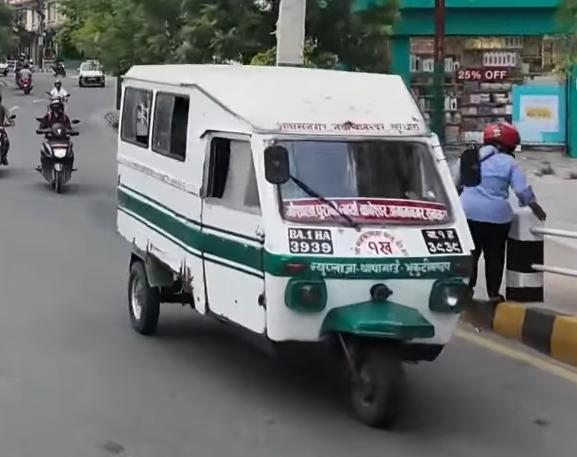scooter: (31, 114, 89, 195)
taxi: (77, 59, 107, 90)
tempo: (112, 57, 484, 429)
